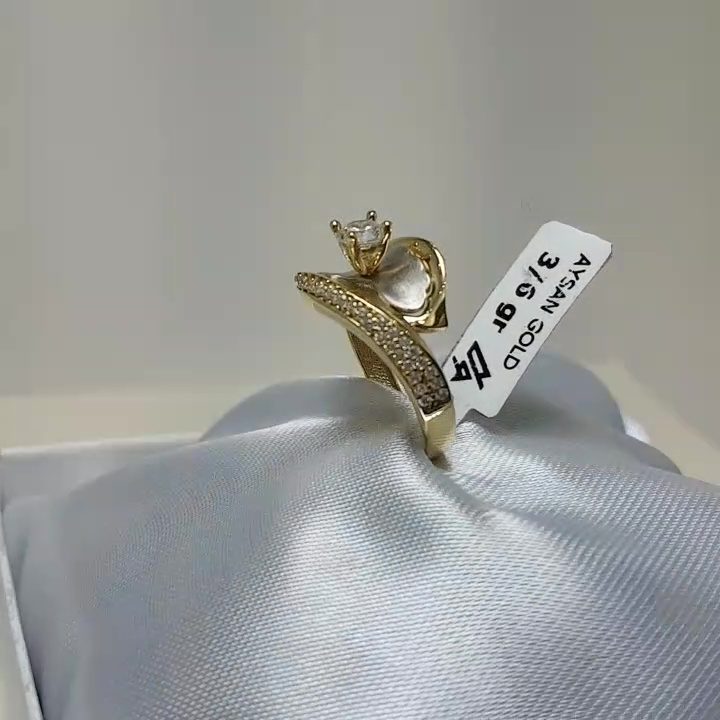Ring 6: (257, 196, 503, 483)
